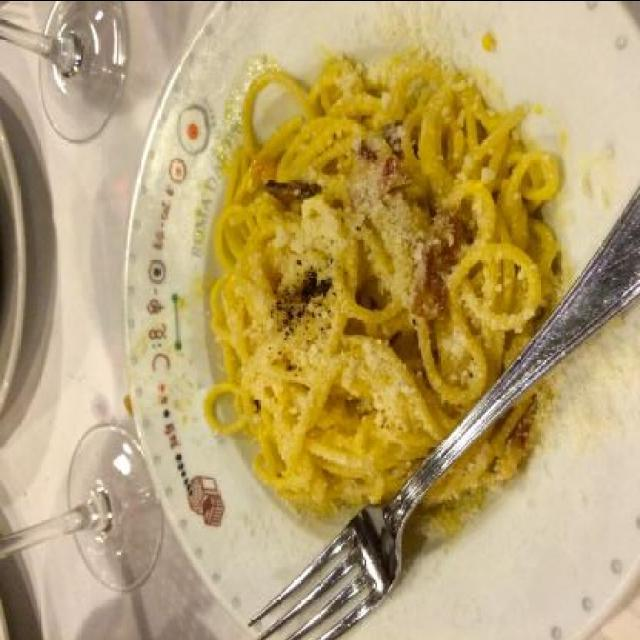Pasta with carbonara sauce: (152, 28, 602, 590)
